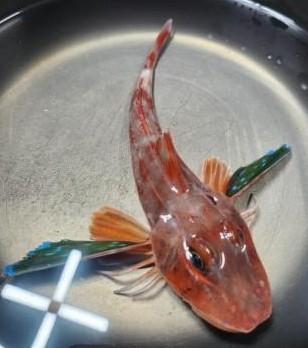fish: (4, 19, 292, 335)
